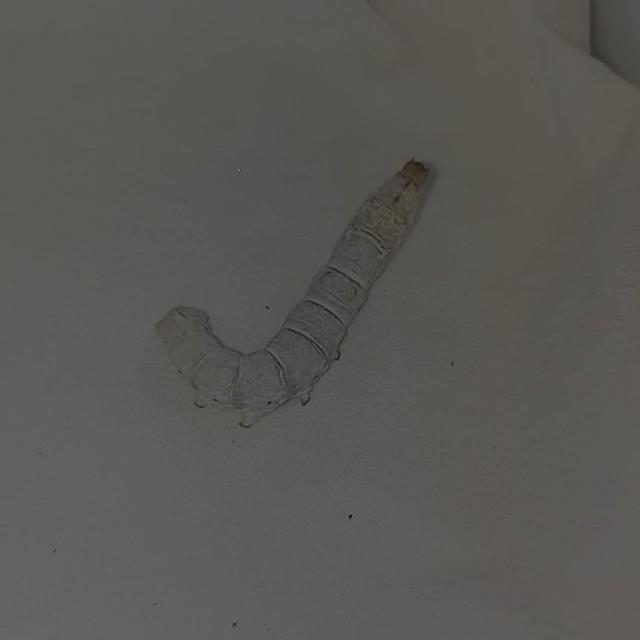Healthy: (146, 128, 454, 444)
